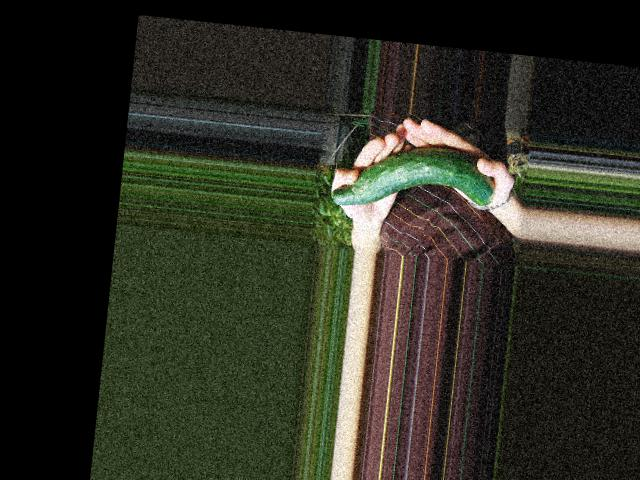cucumber: (331, 137, 499, 220)
